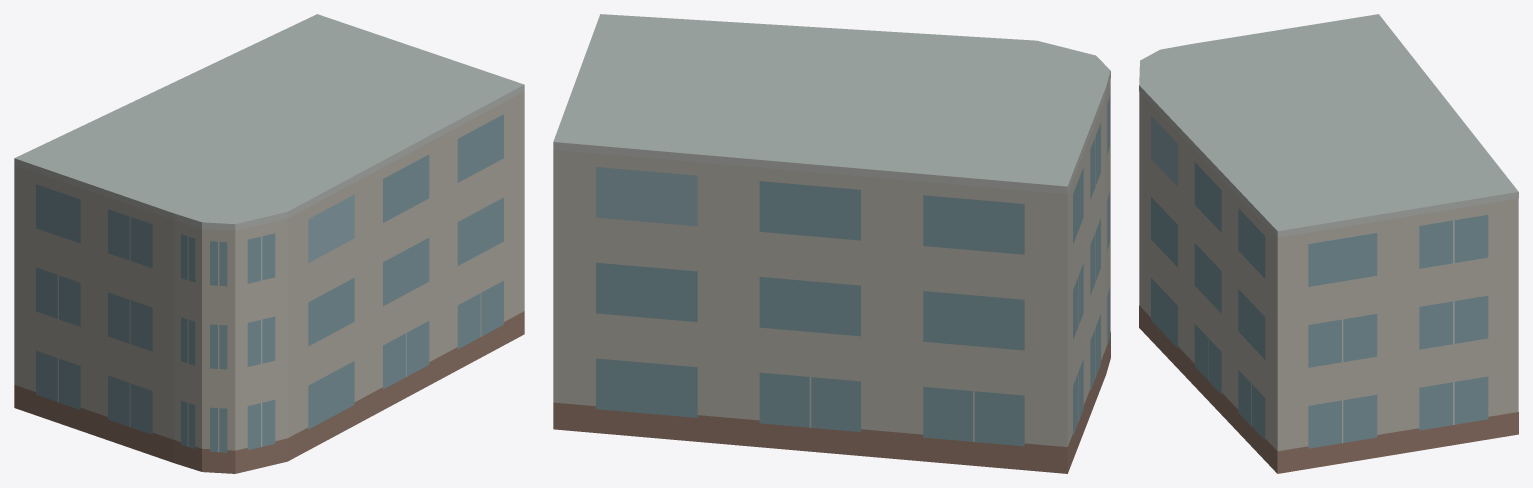
File: survey-upis-32812284.glb
3 views of the same model, side by side, from view 1: azimuth 30°, elevation 25°; view 2: azimuth 150°, elevation 25°; view 3: azimuth 270°, elevation 25° (orthographic). The views are drawn at different scales.
Parts seen in each view (by area): view 1: survey-upis-32812284.tmp; view 2: survey-upis-32812284.tmp; view 3: survey-upis-32812284.tmp.
Boxes of the visible parts, x1,y1,x2,y2 form: survey-upis-32812284.tmp: (14,14,524,473); survey-upis-32812284.tmp: (553,14,1110,473); survey-upis-32812284.tmp: (1139,14,1518,473).
Bounding box in the file's own units: 17.58 × 9.15 × 12.99.
